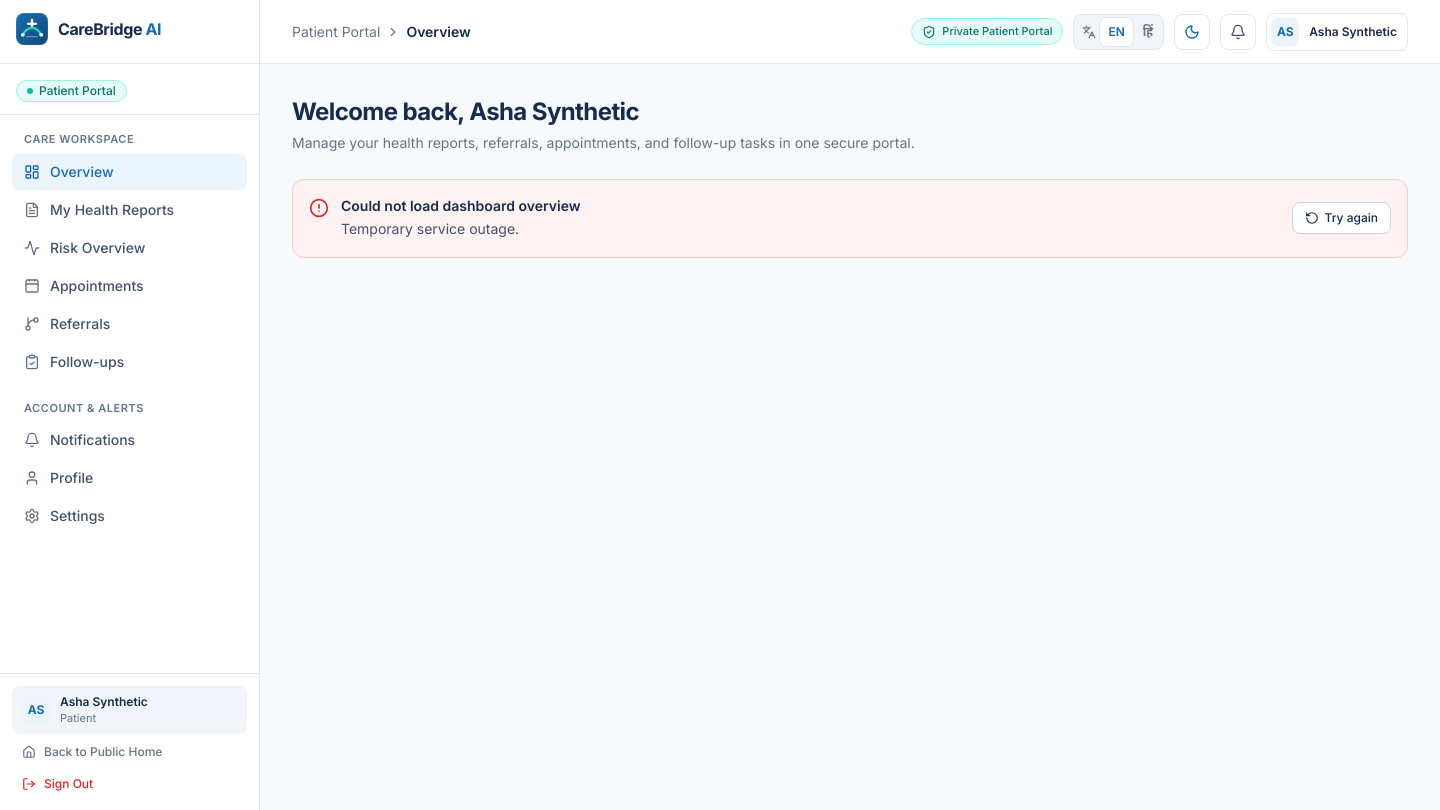
Phase 5 — Patient Dashboard & Patient Portal Integration Suite › renders Patient Overview with real metrics, 6-step journey, quick actions, empty state, and error recovery
Expected: the text "Temporary service outage." is shown, [341,220,519,237]
Step 1. Click the button "Try again" → (1341, 218), box [1292,202,1391,234]
(page scrolled)
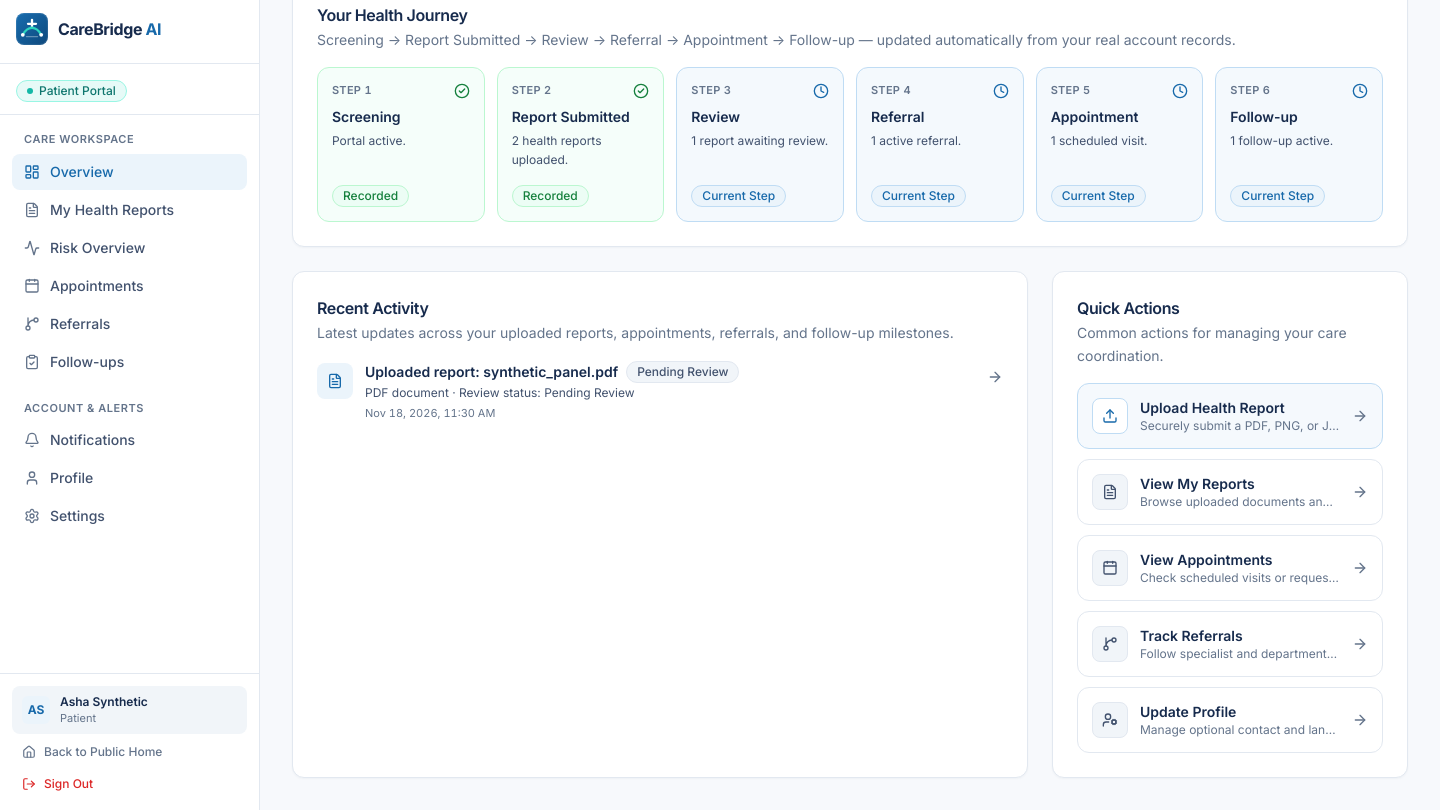
Now the text "Uploaded report: synthetic_panel.pdf" is shown, box [365,362,618,382]
Now the text "Screening" is shown, box [332,108,401,125]
Now the text "Report Submitted" is shown, box [512,107,649,127]
